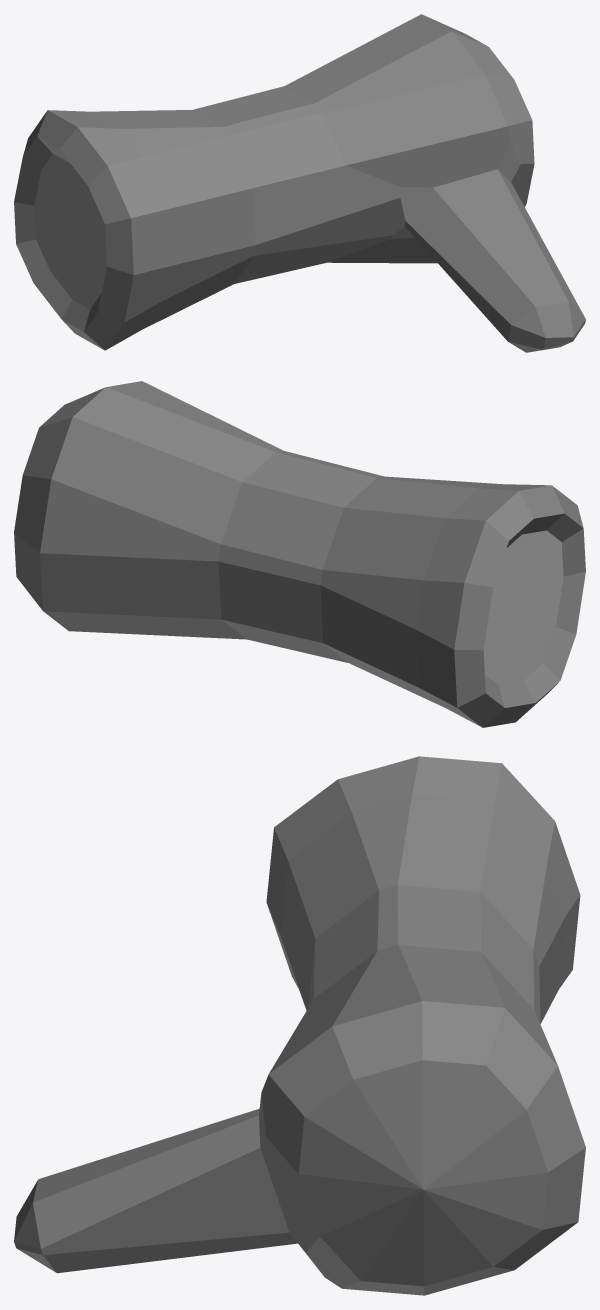
Rendered from HaierDryer.fbx.
3 views of the same model, one above another, from view 1: azimuth 30°, elevation 25°; view 2: azimuth 150°, elevation 25°; view 3: azimuth 270°, elevation 25° (orthographic). The views are drawn at different scales.
Visible parts, largest first — view 1: HaierDryer; view 2: HaierDryer; view 3: HaierDryer.
Part boxes in pixels (x1,y1,x2,y2): HaierDryer: (14, 14, 585, 352); HaierDryer: (14, 381, 585, 727); HaierDryer: (14, 756, 585, 1295).
Bounding box in the file's own units: 0.1434 × 0.0653 × 0.115.
1 material, 1 textured.
